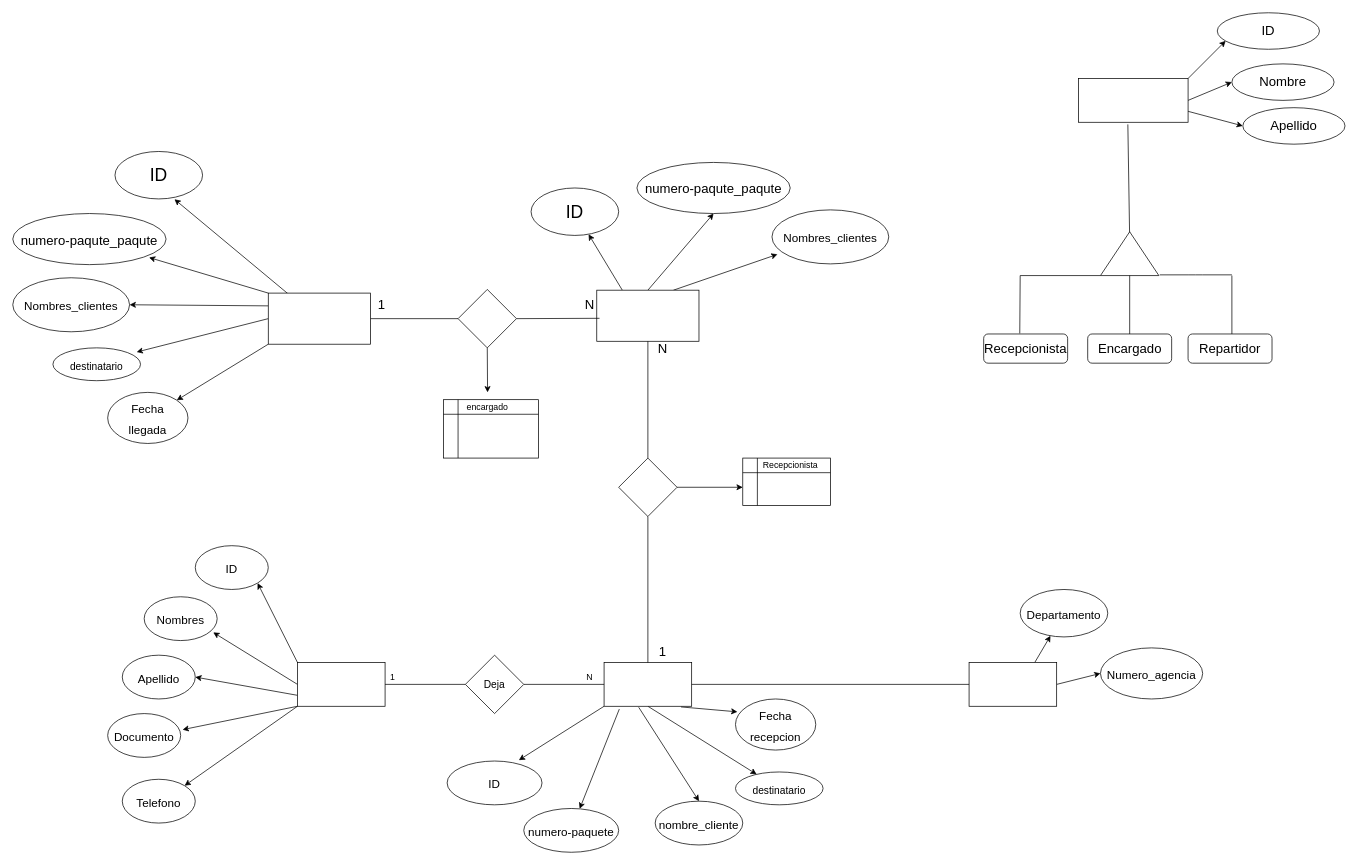
The diagram is 1358 pixels wide and 865 high, and some of its shapes have lost their labels. Each missing label, with the box of its shape:
CIUDAD: (968, 662, 1057, 706)
cliente: (297, 662, 385, 706)
Empleados: (1078, 78, 1188, 122)
Enviar: (268, 292, 370, 344)
paquete: (603, 662, 692, 706)
Pendientes: (596, 289, 699, 341)
